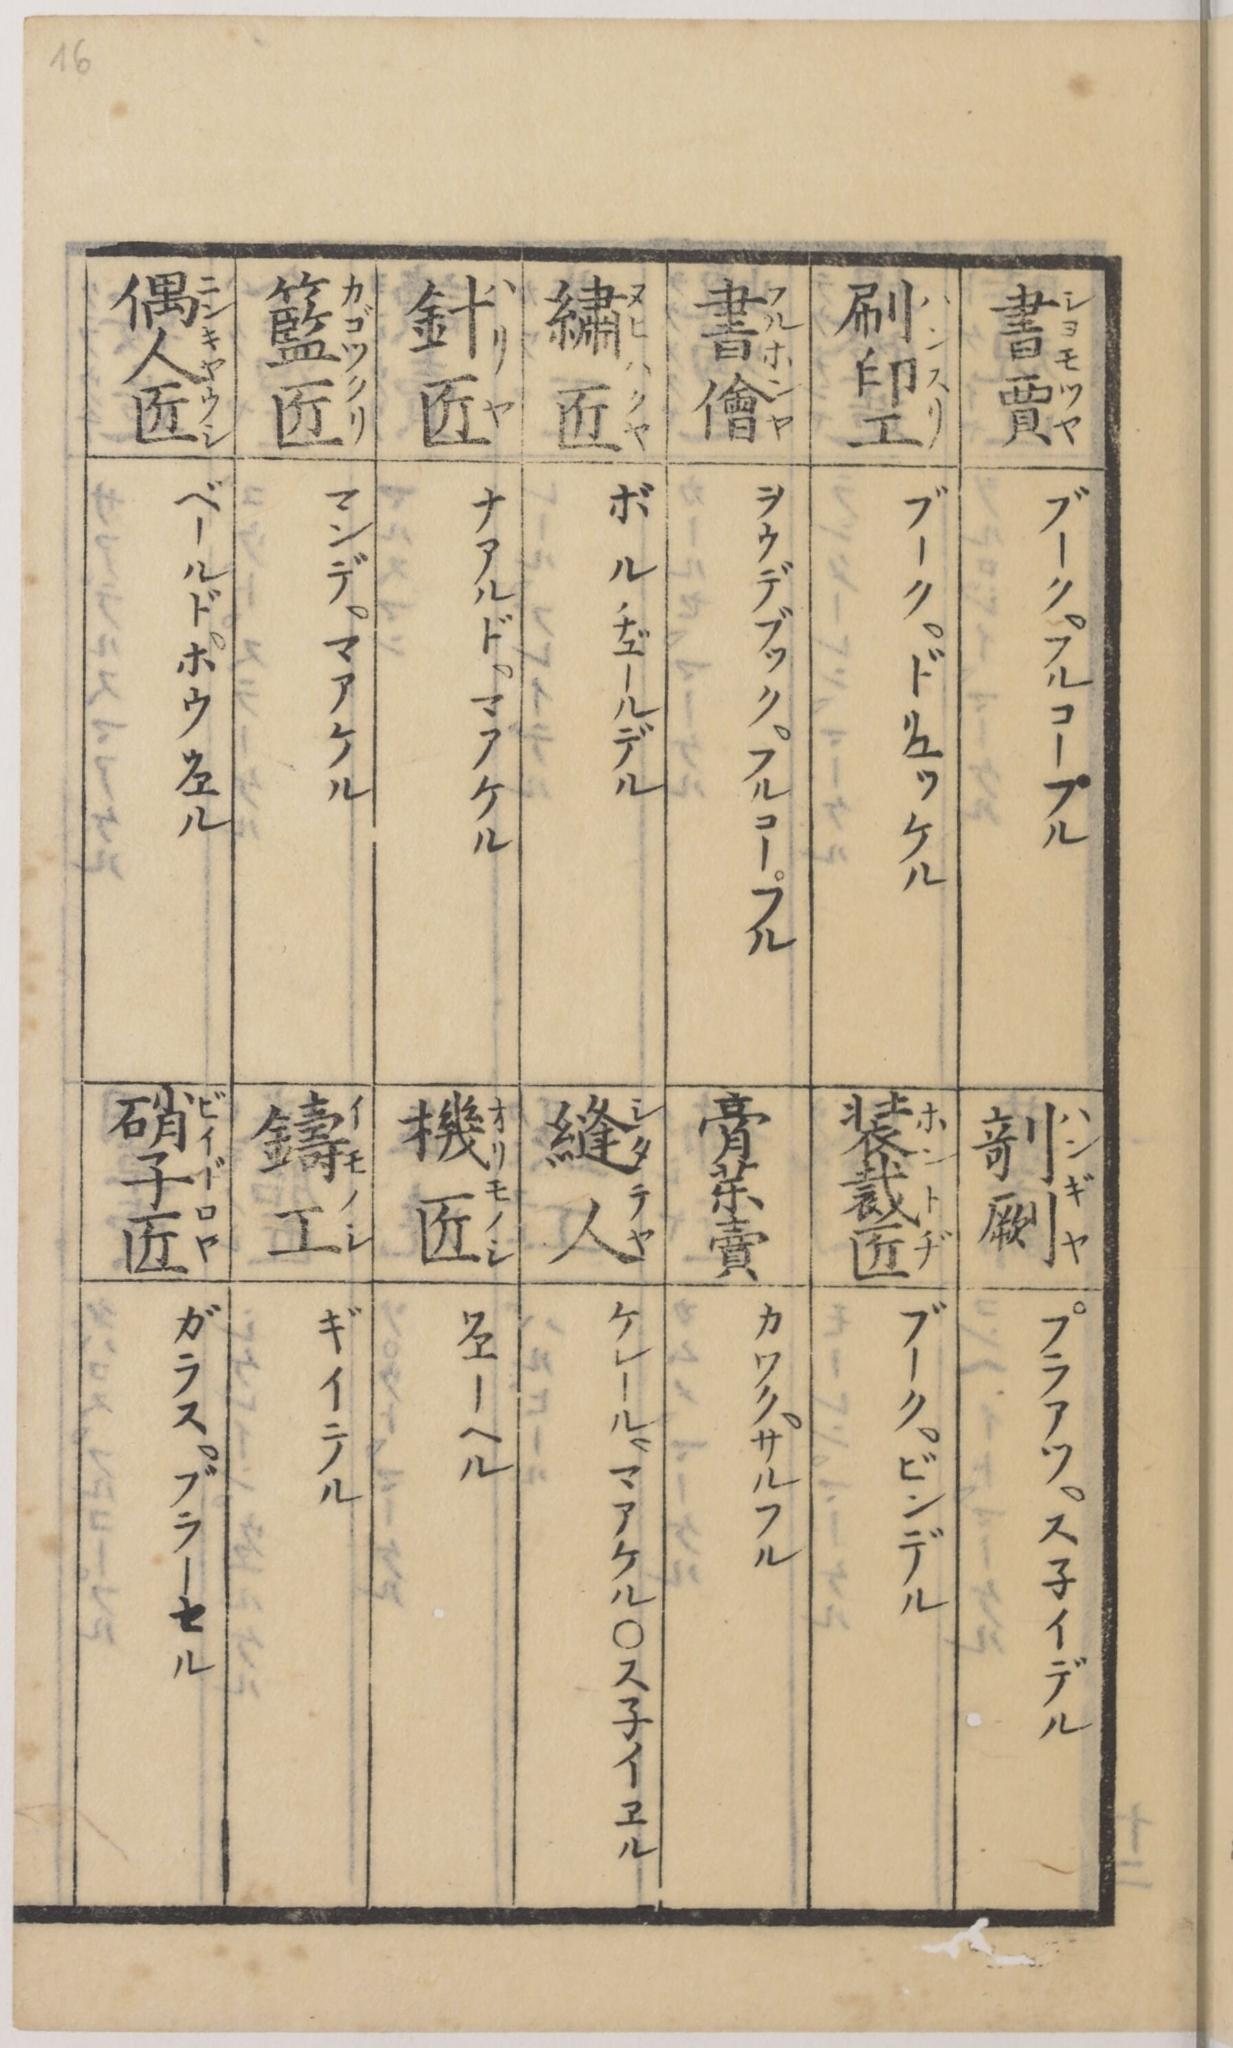MainZone-Character: (971, 1170, 1101, 1267), (266, 268, 380, 376), (250, 1093, 372, 1188), (398, 275, 522, 367), (547, 358, 660, 458), (984, 1091, 1106, 1179), (402, 1173, 510, 1271), (986, 279, 1098, 372), (551, 1179, 661, 1273), (544, 1088, 658, 1178), (690, 276, 799, 369), (405, 369, 519, 455), (401, 1088, 519, 1170), (101, 1202, 224, 1279), (692, 367, 802, 451), (120, 386, 238, 462), (546, 271, 649, 357), (835, 276, 955, 351), (250, 1194, 372, 1267), (104, 1087, 233, 1156), (266, 376, 373, 455), (989, 374, 1097, 452), (837, 1156, 946, 1227), (837, 1087, 952, 1153), (114, 323, 237, 385), (101, 1153, 231, 1210), (110, 265, 234, 323), (840, 1223, 957, 1281), (841, 401, 955, 458), (840, 348, 954, 396)
MainZone-Ruby: (338, 272, 374, 373), (620, 353, 658, 448), (1055, 284, 1097, 369), (483, 275, 522, 366), (1060, 1170, 1097, 1264), (762, 284, 800, 367), (483, 1181, 516, 1270), (1055, 370, 1091, 451), (625, 1094, 661, 1169), (620, 1182, 658, 1254), (196, 386, 234, 452), (919, 285, 955, 353), (342, 1094, 370, 1182), (769, 374, 802, 445), (625, 276, 655, 350), (1059, 1104, 1101, 1156), (192, 1087, 228, 1145), (192, 1202, 225, 1264), (913, 1226, 954, 1273), (344, 374, 370, 445), (196, 326, 228, 380), (914, 1090, 952, 1135), (489, 1094, 512, 1166), (919, 395, 946, 455), (196, 271, 228, 322), (193, 1157, 230, 1198), (341, 1213, 373, 1252), (484, 395, 518, 429), (920, 1175, 946, 1217), (927, 358, 951, 394)
